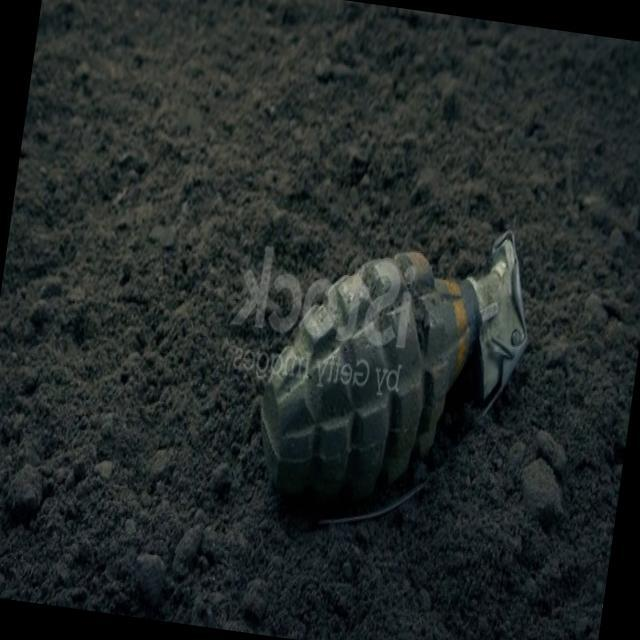grenade: (237, 195, 550, 550)
